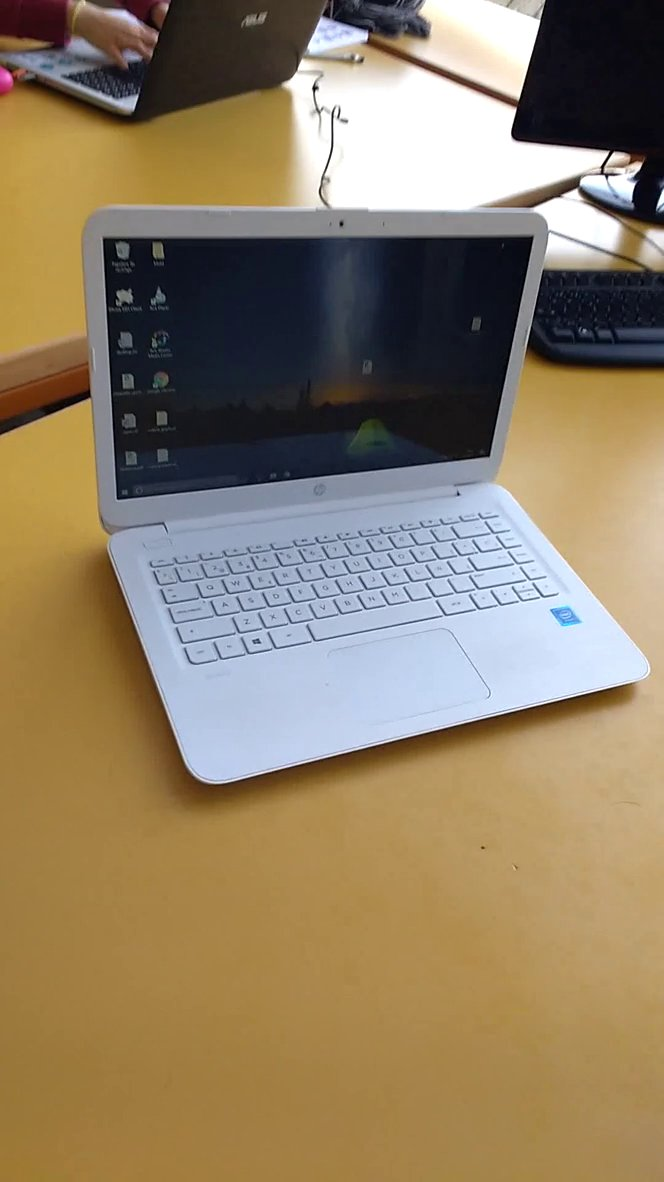laptop: (76, 192, 657, 806), (2, 1, 340, 133)
